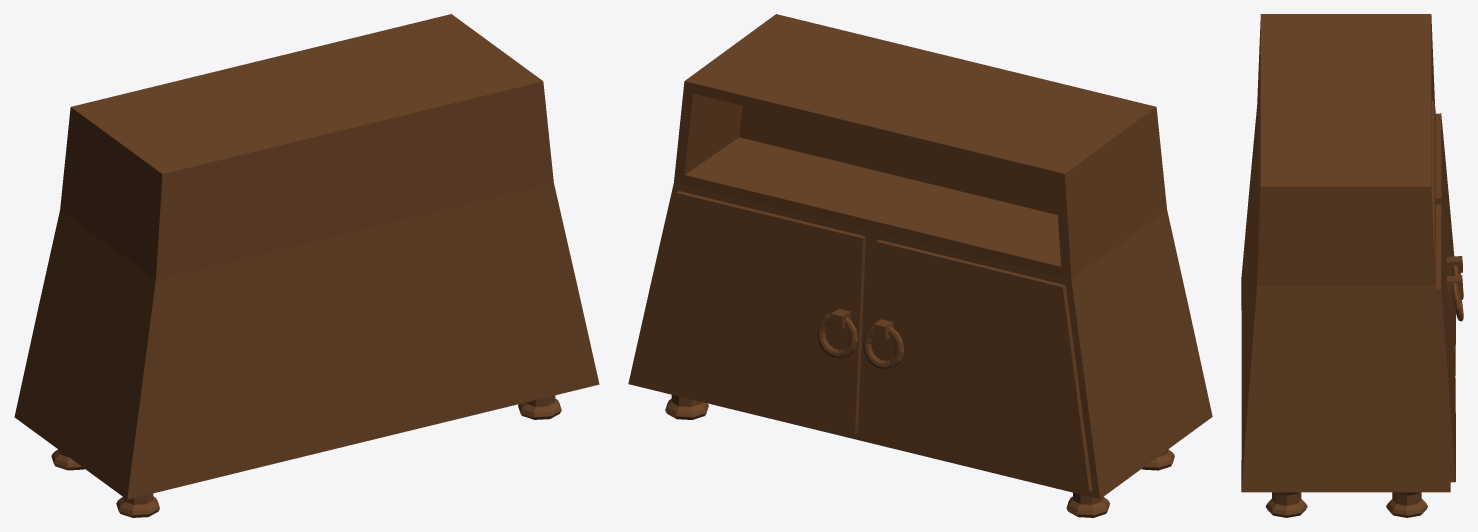
The model's file is shortcupboard2.fbx.
3 views of the same model, side by side, from view 1: azimuth 30°, elevation 25°; view 2: azimuth 150°, elevation 25°; view 3: azimuth 270°, elevation 25° (orthographic). The views are drawn at different scales.
Parts seen in each view (by area): view 1: Cube.001; view 2: Cube.001; view 3: Cube.001.
Part boxes in pixels (x1,y1,x2,y2): Cube.001: [14, 14, 599, 517]; Cube.001: [628, 14, 1212, 517]; Cube.001: [1241, 14, 1463, 517].
Bounding box in the file's own units: 3.85 × 1.69 × 2.67.
